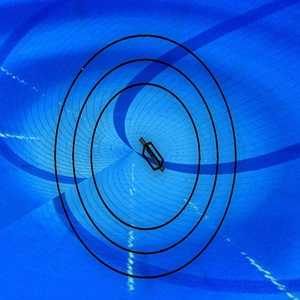circle: (53, 34, 239, 280)
submarine: (136, 135, 170, 175)
